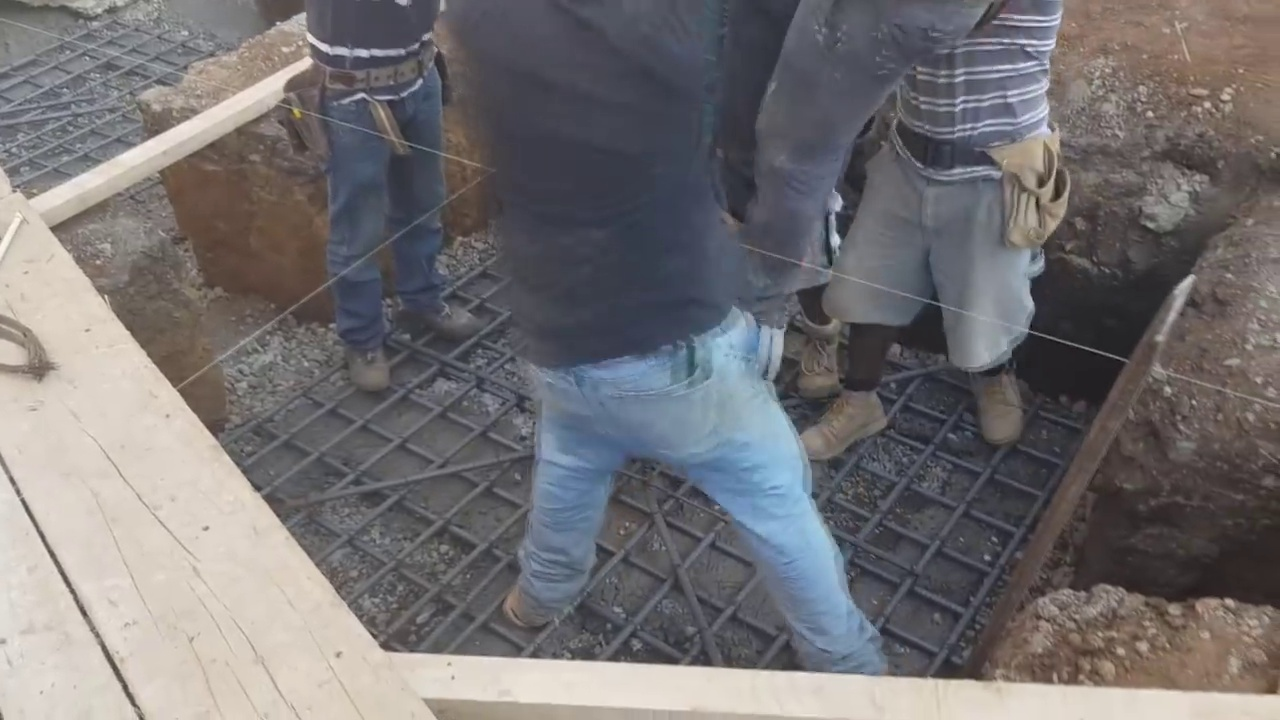person: (426, 0, 889, 682), (796, 3, 1078, 455), (285, 0, 459, 399)
